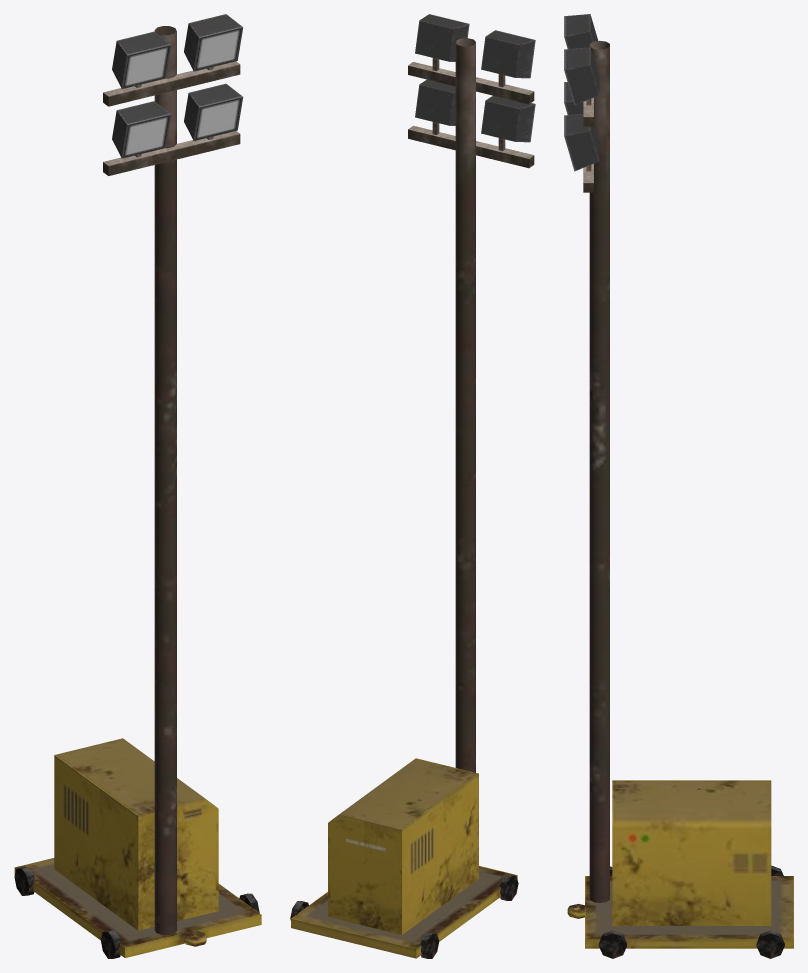
File: floodlight-stand.lod0.glb
3 views of the same model, side by side, from view 1: azimuth 30°, elevation 25°; view 2: azimuth 150°, elevation 25°; view 3: azimuth 270°, elevation 25° (orthographic). The views are drawn at different scales.
Parts seen in each view (by area): view 1: pCylinder6_lambert1_0; view 2: pCylinder6_lambert1_0; view 3: pCylinder6_lambert1_0.
Part boxes in pixels (<box>): pCylinder6_lambert1_0: <box>14,14,261,958</box>; pCylinder6_lambert1_0: <box>290,14,535,958</box>; pCylinder6_lambert1_0: <box>564,14,793,958</box>.
Size of the model in its own units: 0.7212 by 4 by 0.9507.
1 material, 1 textured.
